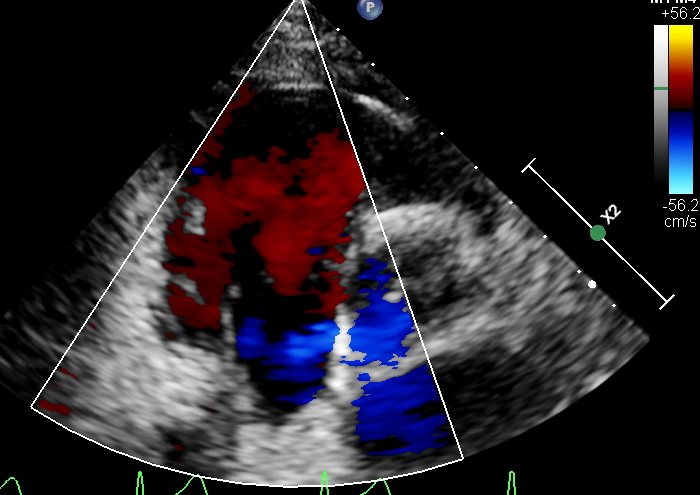TR: (197, 175, 368, 342)
